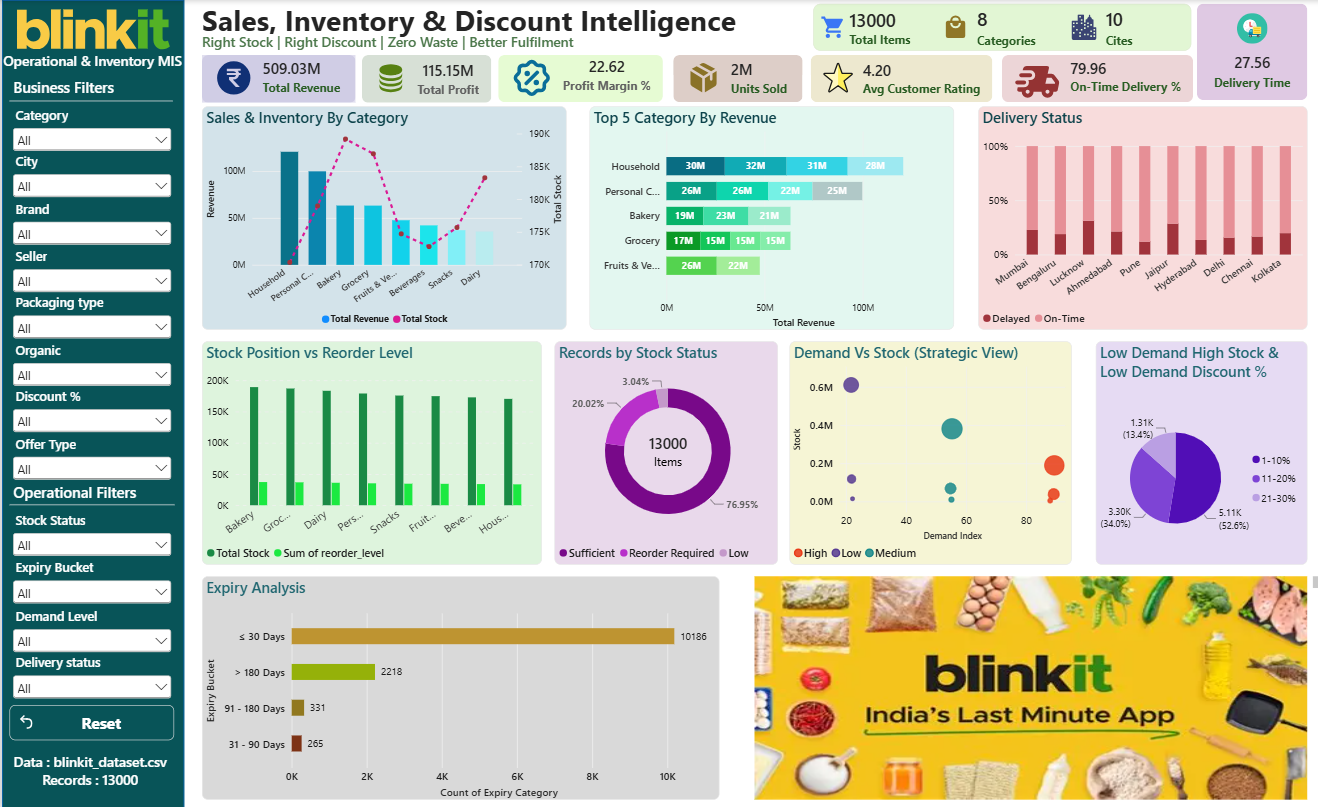

The page's visual inventory and layout, read from the dashboard file:
{"tool":"powerbi","page":{"name":"Blinkit Analysis","canvas":[1800,1100],"ordinal":0},"visuals":[{"type":"shape","box":[0,0,248,1200],"z":0},{"type":"slicer","fields":{"Values":["blinkit_dataset.category"]},"box":[10,144,225,64],"z":1000},{"type":"slicer","title":"Brand","fields":{"Values":["blinkit_dataset.brand","blinkit_dataset.category"]},"box":[10,272,225,64],"z":2000},{"type":"slicer","fields":{"Values":["blinkit_dataset.city"]},"box":[10,208,225,64],"z":3000},{"type":"slicer","fields":{"Values":["blinkit_dataset.seller"]},"box":[10,336,225,64],"z":4000},{"type":"slicer","fields":{"Values":["blinkit_dataset.is_organic"]},"box":[10,464,225,64],"z":5000},{"type":"slicer","fields":{"Values":["blinkit_dataset.delivery_status"]},"box":[10,890,225,62],"z":6000},{"type":"slicer","fields":{"Values":["blinkit_dataset.packaging_type"]},"box":[10,400,225,64],"z":7000},{"type":"slicer","fields":{"Values":["blinkit_dataset.discount_pct"]},"box":[10,528,225,64],"z":8000},{"type":"textbox","title":"Blinkit","box":[0,1,240,96],"z":9000},{"type":"textbox","title":"Operational & Inventory MIS","box":[2,69,246,32],"z":10000},{"type":"actionButton","box":[10,960,224,48],"z":11000},{"type":"textbox","title":"Business Filters","box":[15,106,222,26],"z":12000},{"type":"shape","box":[10,676,225,23],"z":13000},{"type":"textbox","title":"Operational Filters","box":[15,656,225,26],"z":14000},{"type":"shape","box":[10,126,222,23],"z":15000},{"type":"slicer","fields":{"Values":["blinkit_dataset.Stock Status"]},"box":[10,696,225,64],"z":16000},{"type":"slicer","fields":{"Values":["blinkit_dataset.Demand Level"]},"box":[10,827,225,64],"z":17000},{"type":"slicer","fields":{"Values":["blinkit_dataset.Expiry Bucket"]},"box":[10,760,225,64],"z":18000},{"type":"cardVisual","fields":{"Data":["blinkit_dataset.Total Revenue"]},"box":[272,74,209,65],"z":19000},{"type":"textbox","title":"Sales, Inventory & Discount Intelligence","box":[272,0,750,54],"z":20000},{"type":"textbox","box":[272,45,600,28],"z":21000},{"type":"cardVisual","fields":{"Data":["blinkit_dataset.Total Items","blinkit_dataset.Count of Category","blinkit_dataset.No of cities"]},"box":[1104,5,514,64],"z":22000},{"type":"cardVisual","fields":{"Data":["blinkit_dataset.Total Profit"]},"box":[490,74,176,65],"z":23000},{"type":"cardVisual","fields":{"Data":["blinkit_dataset.Units Sold"]},"box":[913,74,176,64],"z":24000},{"type":"cardVisual","fields":{"Data":["blinkit_dataset.Avg Customer Rating"]},"box":[1101,74,247,64],"z":25000},{"type":"cardVisual","fields":{"Data":["blinkit_dataset.On-Time Delivery"]},"box":[1360,74,260,64],"z":26000},{"type":"lineClusteredColumnComboChart","title":"Stock Position vs Reorder Level","fields":{"Y":["blinkit_dataset.Total Stock","Sum(blinkit_dataset.reorder_level)"],"Category":["blinkit_dataset.category"]},"box":[272,464,462,304],"z":27000},{"type":"barChart","title":"Top 5 Category By Revenue","fields":{"Y":["blinkit_dataset.Total Revenue"],"Category":["blinkit_dataset.category"],"Series":["blinkit_dataset.brand"]},"box":[800,144,496,304],"z":28000},{"type":"cardVisual","fields":{"Data":["blinkit_dataset.Profit Margin %"]},"box":[676,74,224,64],"z":29000},{"type":"barChart","title":"Expiry Analysis","fields":{"Category":["blinkit_dataset.Expiry Bucket"],"Y":["CountNonNull(blinkit_dataset.Expiry Category)"]},"box":[272,784,704,304],"z":30000},{"type":"pieChart","title":"Low Demand High Stock & Low Demand Discount %","fields":{"Category":["blinkit_dataset.Discount Bucket"],"Y":["blinkit_dataset.Discounted Items"]},"box":[1488,464,288,304],"z":31000},{"type":"image","box":[20,0,208,80],"z":32000},{"type":"cardVisual","fields":{"Data":["blinkit_dataset.Avg Delivery Time"]},"box":[1626,5,150,131],"z":33000},{"type":"textbox","box":[0,1024,240,64],"z":34000},{"type":"scatterChart","title":"Demand Vs Stock (Strategic View)","fields":{"Series":["blinkit_dataset.Demand Level"],"X":["blinkit_dataset.Avg Demand Index"],"Size":["blinkit_dataset.Units Sold"],"Y":["blinkit_dataset.Total Stock"],"Category":["blinkit_dataset.Stock Status"]},"box":[1072,464,384,304],"z":35000},{"type":"hundredPercentStackedColumnChart","title":"Delivery Status","fields":{"Category":["blinkit_dataset.city"],"Series":["blinkit_dataset.delivery_status"],"Y":["blinkit_dataset.Delivery Count"]},"box":[1328,144,448,304],"z":36000},{"type":"lineStackedColumnComboChart","title":"Sales & Inventory By Category","fields":{"Category":["blinkit_dataset.category"],"Y":["blinkit_dataset.Total Revenue"],"Y2":["blinkit_dataset.Total Stock"]},"box":[272,144,496,304],"z":37000},{"type":"donutChart","title":"Records by Stock Status","fields":{"Category":["blinkit_dataset.Stock Status"],"Y":["blinkit_dataset.Total Items"]},"box":[752,464,304,304],"z":38000},{"type":"slicer","fields":{"Values":["blinkit_dataset.offer_type"]},"box":[10,592,225,64],"z":39000},{"type":"textbox","box":[1776,784,16,16],"z":42000},{"type":"image","box":[1024,784,752,304],"z":42001}]}

Visuals, with their boxes in screenshot pixels (x1, y1, x2, y2), scaled from the page's 1800x1100 canvas onto the 1318x807 screenshot:
shape: {"x1": 0, "y1": 0, "x2": 182, "y2": 806}
slicer - blinkit_dataset.category: {"x1": 7, "y1": 106, "x2": 172, "y2": 153}
"Brand" slicer: {"x1": 7, "y1": 200, "x2": 172, "y2": 247}
slicer - blinkit_dataset.city: {"x1": 7, "y1": 153, "x2": 172, "y2": 200}
slicer - blinkit_dataset.seller: {"x1": 7, "y1": 247, "x2": 172, "y2": 293}
slicer - blinkit_dataset.is_organic: {"x1": 7, "y1": 340, "x2": 172, "y2": 387}
slicer - blinkit_dataset.delivery_status: {"x1": 7, "y1": 653, "x2": 172, "y2": 698}
slicer - blinkit_dataset.packaging_type: {"x1": 7, "y1": 293, "x2": 172, "y2": 340}
slicer - blinkit_dataset.discount_pct: {"x1": 7, "y1": 387, "x2": 172, "y2": 434}
"Blinkit" textbox: {"x1": 0, "y1": 1, "x2": 176, "y2": 71}
"Operational & Inventory MIS" textbox: {"x1": 1, "y1": 51, "x2": 182, "y2": 74}
actionButton: {"x1": 7, "y1": 704, "x2": 171, "y2": 740}
"Business Filters" textbox: {"x1": 11, "y1": 78, "x2": 174, "y2": 97}
shape: {"x1": 7, "y1": 496, "x2": 172, "y2": 513}
"Operational Filters" textbox: {"x1": 11, "y1": 481, "x2": 176, "y2": 500}
shape: {"x1": 7, "y1": 92, "x2": 170, "y2": 109}
slicer - blinkit_dataset.Stock Status: {"x1": 7, "y1": 511, "x2": 172, "y2": 558}
slicer - blinkit_dataset.Demand Level: {"x1": 7, "y1": 607, "x2": 172, "y2": 654}
slicer - blinkit_dataset.Expiry Bucket: {"x1": 7, "y1": 558, "x2": 172, "y2": 605}
cardVisual - blinkit_dataset.Total Revenue: {"x1": 199, "y1": 54, "x2": 352, "y2": 102}
"Sales, Inventory & Discount Intelligence" textbox: {"x1": 199, "y1": 0, "x2": 748, "y2": 40}
textbox: {"x1": 199, "y1": 33, "x2": 638, "y2": 54}
cardVisual - blinkit_dataset.Total Items x blinkit_dataset.Count of Category: {"x1": 808, "y1": 4, "x2": 1185, "y2": 51}
cardVisual - blinkit_dataset.Total Profit: {"x1": 359, "y1": 54, "x2": 488, "y2": 102}
cardVisual - blinkit_dataset.Units Sold: {"x1": 669, "y1": 54, "x2": 797, "y2": 101}
cardVisual - blinkit_dataset.Avg Customer Rating: {"x1": 806, "y1": 54, "x2": 987, "y2": 101}
cardVisual - blinkit_dataset.On-Time Delivery: {"x1": 996, "y1": 54, "x2": 1186, "y2": 101}
"Stock Position vs Reorder Level" lineClusteredColumnComboChart: {"x1": 199, "y1": 340, "x2": 537, "y2": 563}
"Top 5 Category By Revenue" barChart: {"x1": 586, "y1": 106, "x2": 949, "y2": 329}
cardVisual - blinkit_dataset.Profit Margin %: {"x1": 495, "y1": 54, "x2": 659, "y2": 101}
"Expiry Analysis" barChart: {"x1": 199, "y1": 575, "x2": 715, "y2": 798}
"Low Demand High Stock & Low Demand Discount %" pieChart: {"x1": 1090, "y1": 340, "x2": 1300, "y2": 563}
image: {"x1": 15, "y1": 0, "x2": 167, "y2": 59}
cardVisual - blinkit_dataset.Avg Delivery Time: {"x1": 1191, "y1": 4, "x2": 1300, "y2": 100}
textbox: {"x1": 0, "y1": 751, "x2": 176, "y2": 798}
"Demand Vs Stock (Strategic View)" scatterChart: {"x1": 785, "y1": 340, "x2": 1066, "y2": 563}
"Delivery Status" hundredPercentStackedColumnChart: {"x1": 972, "y1": 106, "x2": 1300, "y2": 329}
"Sales & Inventory By Category" lineStackedColumnComboChart: {"x1": 199, "y1": 106, "x2": 562, "y2": 329}
"Records by Stock Status" donutChart: {"x1": 551, "y1": 340, "x2": 773, "y2": 563}
slicer - blinkit_dataset.offer_type: {"x1": 7, "y1": 434, "x2": 172, "y2": 481}
textbox: {"x1": 1300, "y1": 575, "x2": 1312, "y2": 587}
image: {"x1": 750, "y1": 575, "x2": 1300, "y2": 798}
